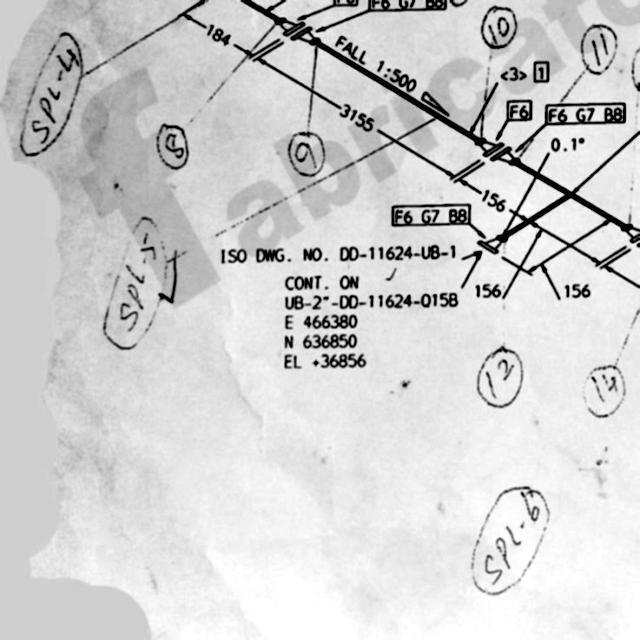Item number: (390, 200, 473, 229), (544, 99, 628, 126), (367, 0, 448, 13), (506, 95, 534, 123), (532, 58, 552, 84), (330, 1, 360, 8)
Measrement: (245, 49, 459, 187), (471, 217, 615, 304), (178, 8, 260, 63), (536, 258, 602, 316), (450, 174, 525, 222), (549, 131, 588, 156)
Pipeline: (320, 37, 472, 140), (492, 156, 635, 243), (237, 0, 286, 26)
Symbol: (277, 13, 319, 50), (479, 134, 519, 169), (472, 228, 508, 263), (624, 223, 639, 254)
Weld number: (474, 344, 526, 412), (582, 362, 629, 421), (580, 19, 620, 77), (285, 131, 328, 179), (478, 2, 519, 52), (153, 121, 191, 173)
other: (279, 275, 459, 372), (214, 243, 463, 265)
